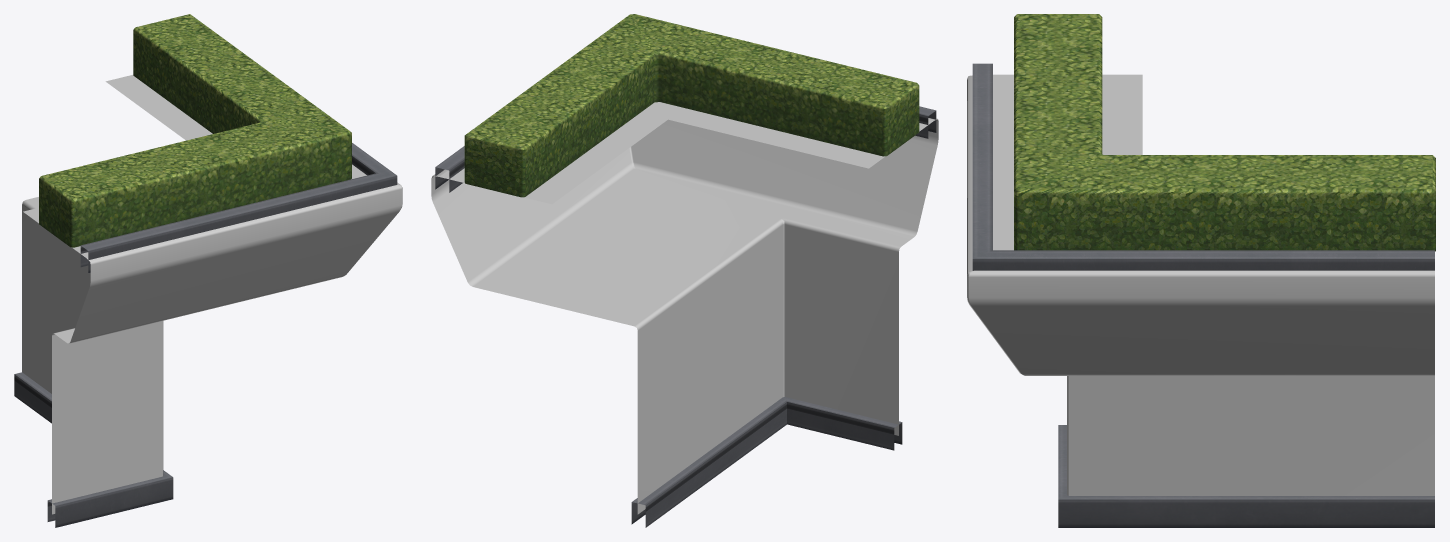
The model's file is mesh_1002_zc_building08a.FBX.
The picture shows the model from 3 angles, left to right: view 1: azimuth 30°, elevation 25°; view 2: azimuth 150°, elevation 25°; view 3: azimuth 270°, elevation 25°; orthographic projection. The views are drawn at different scales.
Visible parts, largest first — view 1: mesh_1002_zc_building08a001, mesh_1002_plant003, mesh_1002_zc_building08b001, mesh_1002_zc_building08c001; view 2: mesh_1002_zc_building08a001, mesh_1002_plant003, mesh_1002_zc_building08b001, mesh_1002_zc_building08c001; view 3: mesh_1002_zc_building08a001, mesh_1002_plant003, mesh_1002_zc_building08b001, mesh_1002_zc_building08c001.
Part boxes in pixels (x1=…): mesh_1002_zc_building08a001: x1=22, y1=182, x2=402, y2=514; mesh_1002_plant003: x1=39, y1=14, x2=351, y2=247; mesh_1002_zc_building08b001: x1=14, y1=143, x2=397, y2=527; mesh_1002_zc_building08c001: x1=23, y1=75, x2=366, y2=257; mesh_1002_zc_building08a001: x1=431, y1=118, x2=938, y2=514; mesh_1002_plant003: x1=464, y1=14, x2=919, y2=197; mesh_1002_zc_building08b001: x1=435, y1=106, x2=936, y2=527; mesh_1002_zc_building08c001: x1=439, y1=102, x2=933, y2=204; mesh_1002_zc_building08a001: x1=967, y1=75, x2=1434, y2=495; mesh_1002_plant003: x1=1014, y1=14, x2=1435, y2=251; mesh_1002_zc_building08b001: x1=972, y1=63, x2=1434, y2=527; mesh_1002_zc_building08c001: x1=993, y1=74, x2=1142, y2=250.
Bounding box in the file's own units: 956 × 991 × 956.
